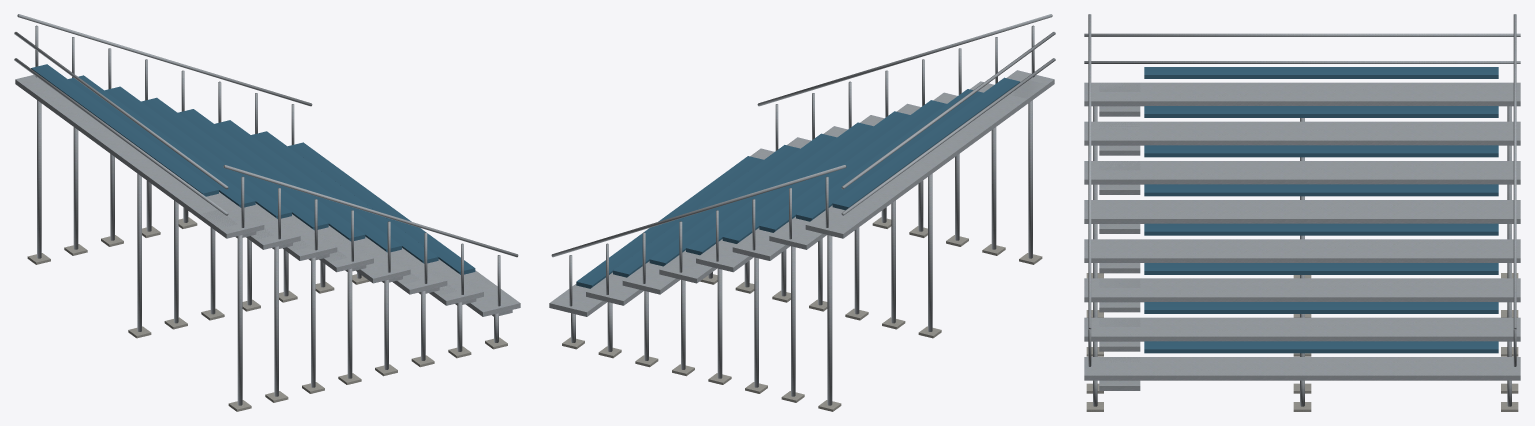
File: temporary-grandstand_far.glb
3 views of the same model, side by side, from view 1: azimuth 30°, elevation 25°; view 2: azimuth 150°, elevation 25°; view 3: azimuth 270°, elevation 25° (orthographic). The views are drawn at different scales.
Visible parts, largest first — view 1: galvanised, seat, concrete; view 2: galvanised, seat, concrete; view 3: galvanised, seat, concrete.
Part boxes in pixels (x1=…): galvanised: x1=14, y1=14, x2=520, y2=405; seat: x1=31, y1=64, x2=475, y2=274; concrete: x1=27, y1=217, x2=507, y2=411; galvanised: x1=549, y1=14, x2=1055, y2=405; seat: x1=576, y1=77, x2=1019, y2=288; concrete: x1=562, y1=217, x2=1042, y2=411; galvanised: x1=1084, y1=14, x2=1520, y2=406; seat: x1=1144, y1=67, x2=1498, y2=353; concrete: x1=1086, y1=273, x2=1518, y2=411.
Size of the model in its own units: 6.44 by 5.19 by 8.
3 materials, 2 textured.
